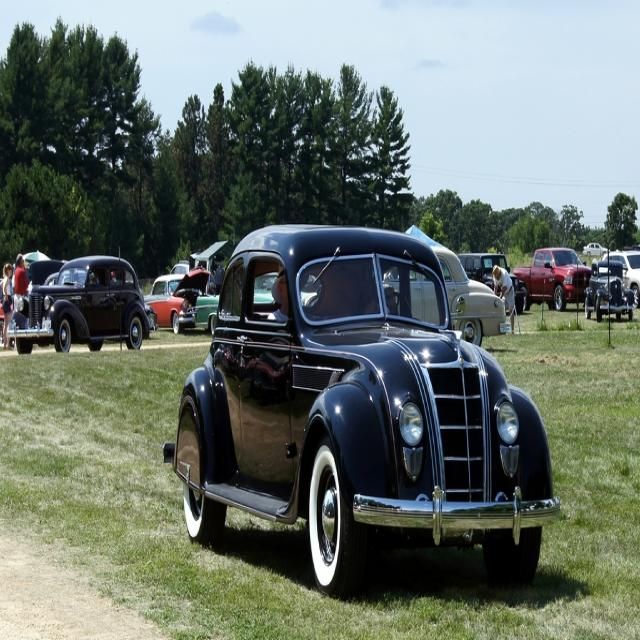Passenger Car: (166, 225, 560, 598), (6, 258, 156, 354), (585, 262, 634, 324)
Pickup Trucks: (513, 242, 588, 312)
